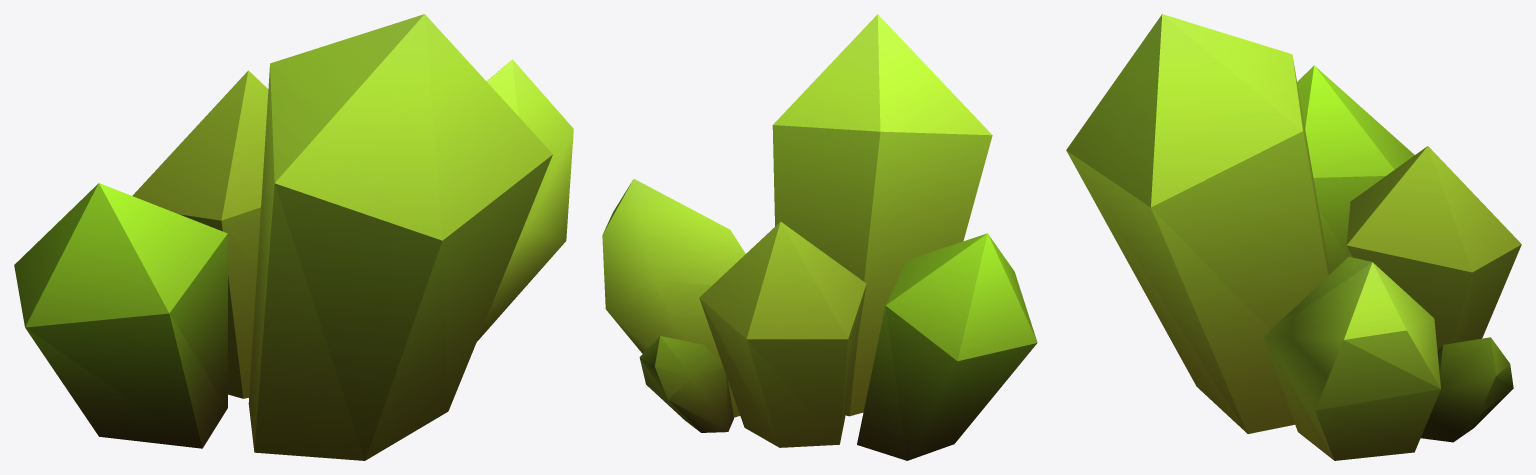
The model's file is ZLP_Crystalk_C_13.FBX.
The picture shows the model from 3 angles, left to right: view 1: azimuth 30°, elevation 25°; view 2: azimuth 150°, elevation 25°; view 3: azimuth 270°, elevation 25°; orthographic projection. The views are drawn at different scales.
Parts seen in each view (by area): view 1: ZLP_Crystalk_C_13; view 2: ZLP_Crystalk_C_13; view 3: ZLP_Crystalk_C_13.
Boxes of the visible parts, box(x1,y1,x2,y2) form: ZLP_Crystalk_C_13: box(14, 14, 573, 460); ZLP_Crystalk_C_13: box(602, 14, 1037, 460); ZLP_Crystalk_C_13: box(1066, 14, 1521, 460).
Bounding box in the file's own units: 135 × 104 × 110.
